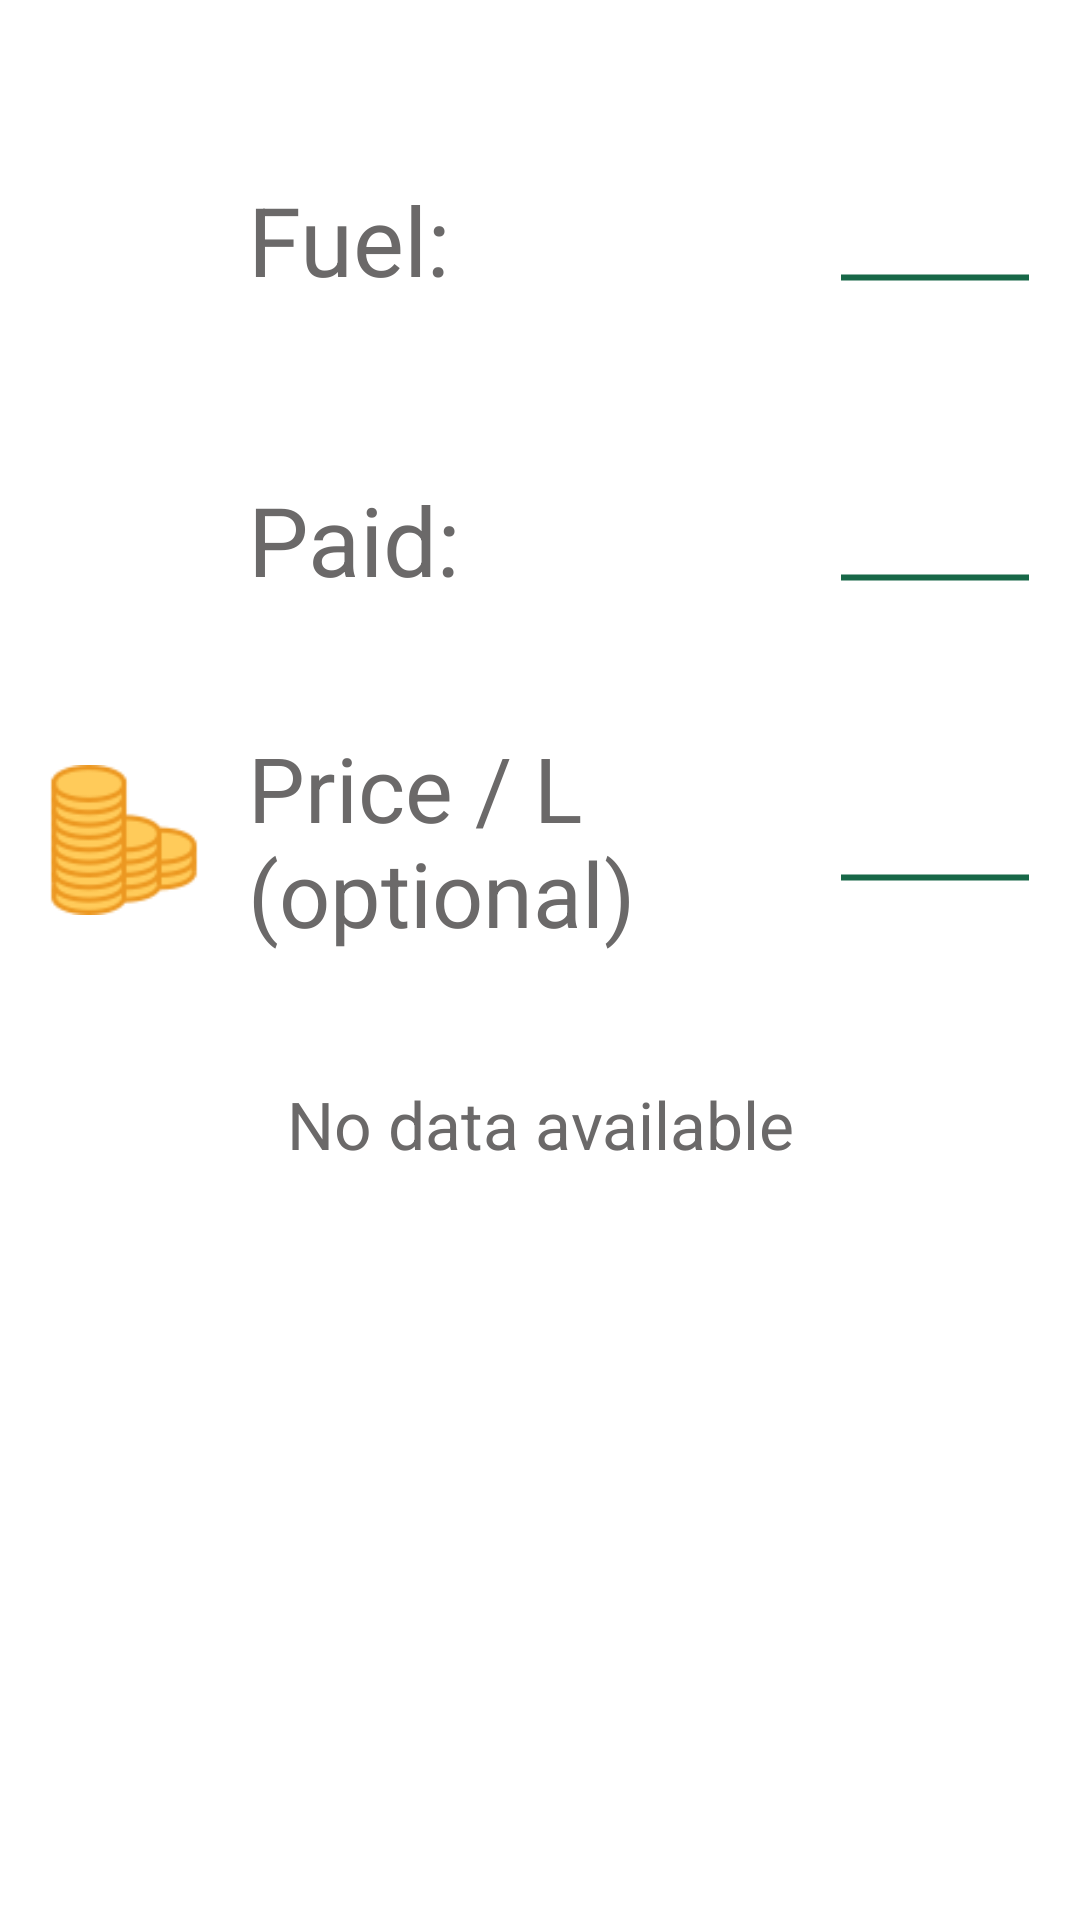

Icons on this 1080w x 1920h Android screen, each with its box as (x1, y1, x2, y2):
coins: (50, 765, 198, 915)
